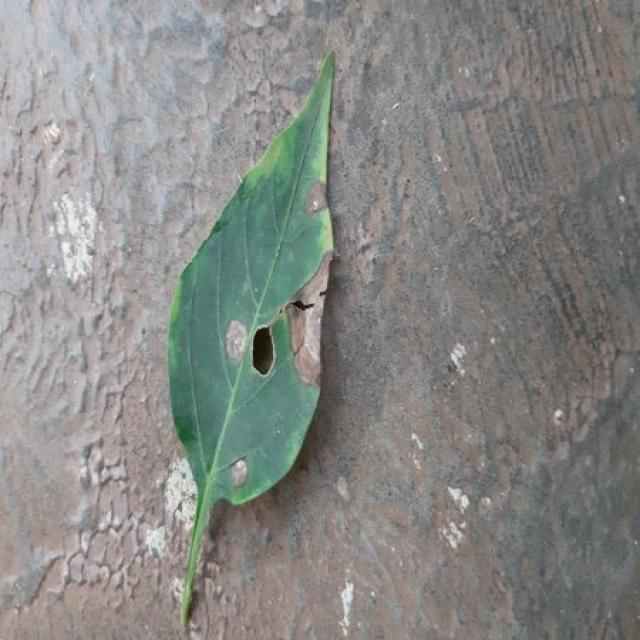leaf curl: (168, 54, 333, 623)
